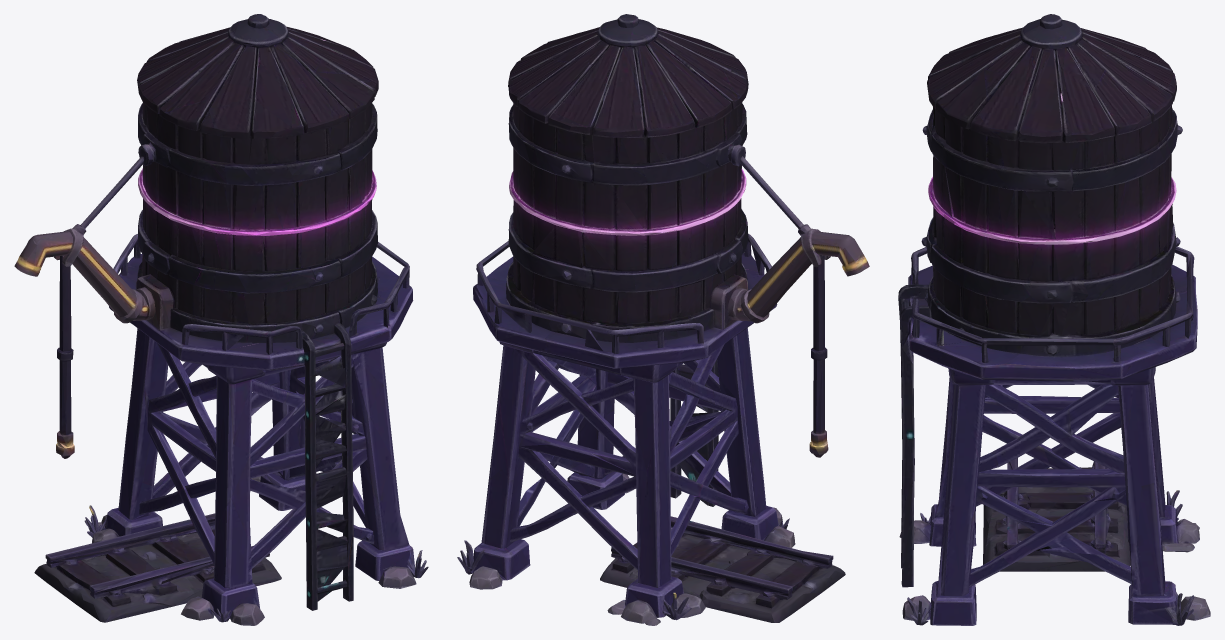
File: prop-water-tower.glb
The picture shows the model from 3 angles, left to right: view 1: azimuth 30°, elevation 25°; view 2: azimuth 150°, elevation 25°; view 3: azimuth 270°, elevation 25°; orthographic projection. The views are drawn at different scales.
Visible parts, largest first — view 1: output_unwrapped; view 2: output_unwrapped; view 3: output_unwrapped.
Boxes of the visible parts, <box> form: output_unwrapped: <box>14,14,428,625</box>; output_unwrapped: <box>457,14,869,625</box>; output_unwrapped: <box>898,14,1210,625</box>.
Bounding box in the file's own units: 1.35 × 1.9 × 0.9647.
1 material, 1 textured.
